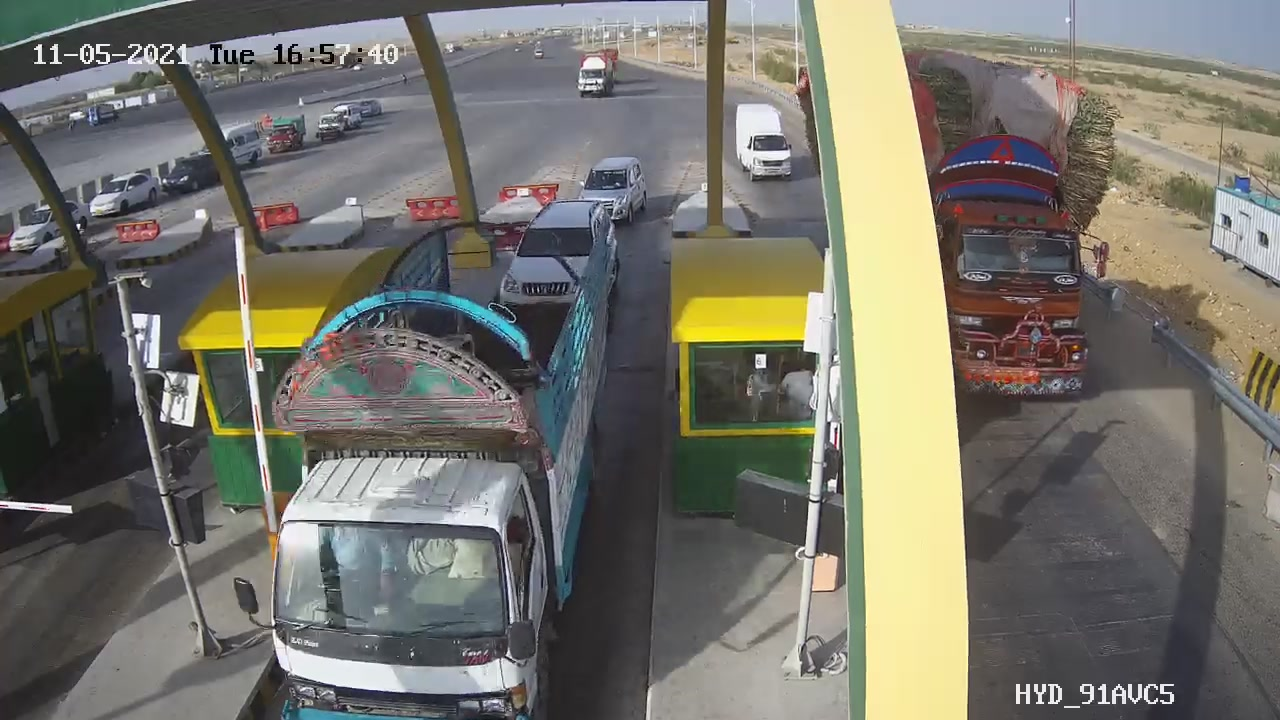F1: (488, 189, 633, 337)
